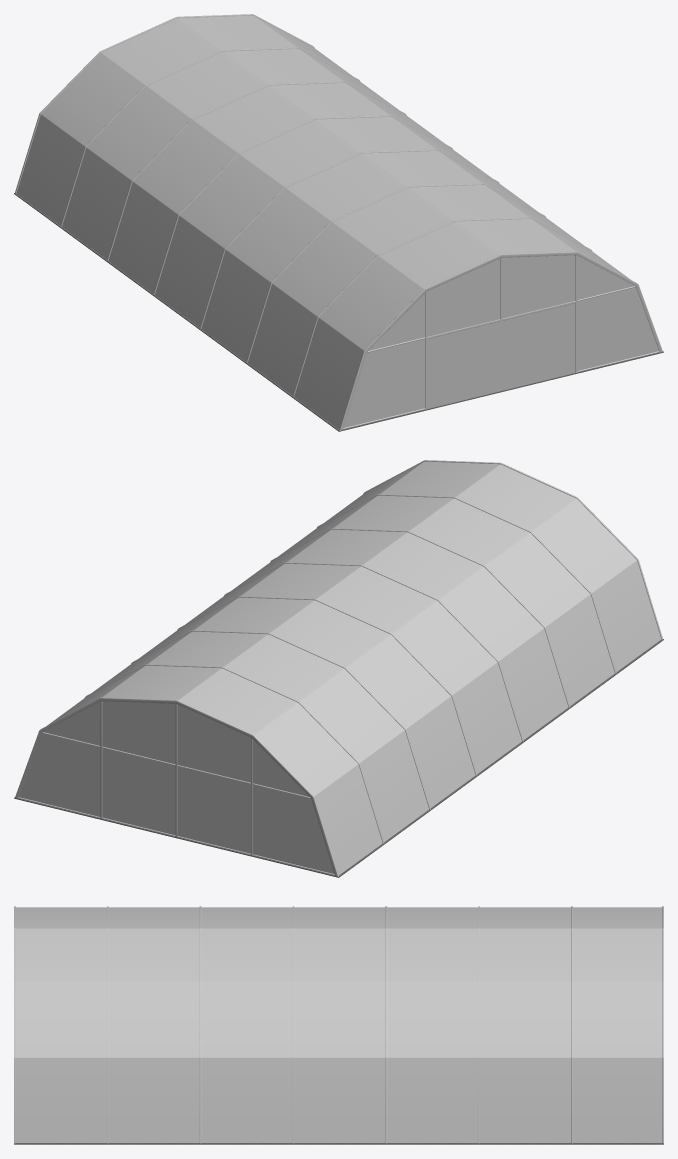
The model's file is Warehouse01_6.FBX.
3 renders of one model, top to bottom at view 1: azimuth 30°, elevation 25°; view 2: azimuth 150°, elevation 25°; view 3: azimuth 270°, elevation 25°, orthographic.
Visible parts, largest first — view 1: Warehouse01_6; view 2: Warehouse01_6; view 3: Warehouse01_6.
Part boxes in pixels (<box>): Warehouse01_6: <box>14,14,663,431</box>; Warehouse01_6: <box>14,460,663,877</box>; Warehouse01_6: <box>14,906,663,1144</box>.
Size of what is drawn, in the model's own units: 20.2 by 8.17 by 35.
